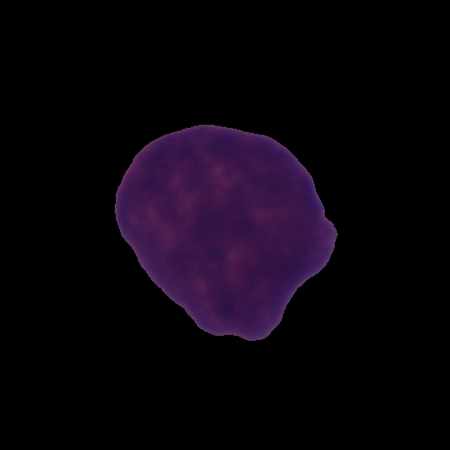ALL: (110, 120, 341, 344)
